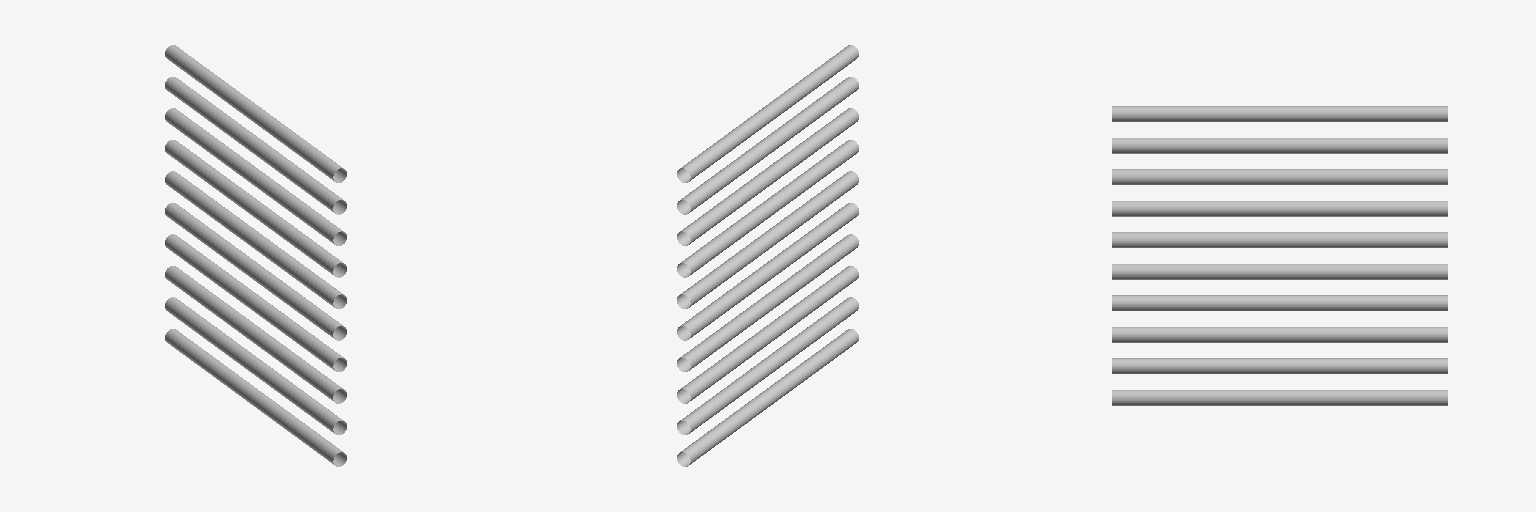
Rendered from LightningBars.obj.
The picture shows the model from 3 angles: view 1: azimuth 30°, elevation 25°; view 2: azimuth 150°, elevation 25°; view 3: azimuth 270°, elevation 25°; orthographic projection.
Visible parts, largest first — view 1: Cylinder; view 2: Cylinder; view 3: Cylinder.
Boxes of the visible parts, x1,y1,x2,y2 form: Cylinder: [165, 45, 346, 466]; Cylinder: [677, 45, 858, 466]; Cylinder: [1112, 106, 1447, 405].
Size of the model in its own units: 0.0528 by 1.08 by 1.11.